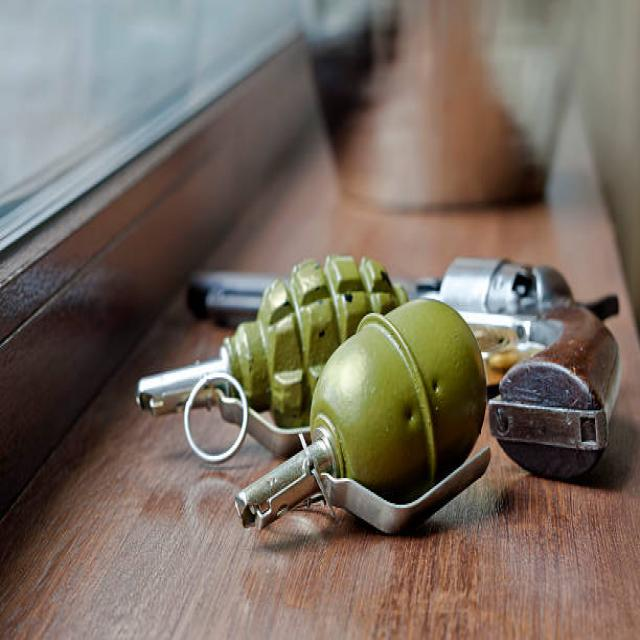grenade: (230, 296, 494, 545), (136, 248, 413, 461)
